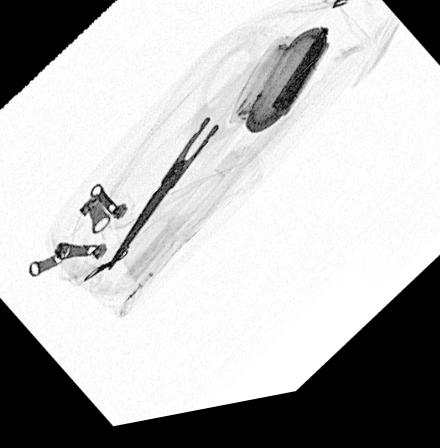Scissors: (105, 42, 300, 275)
